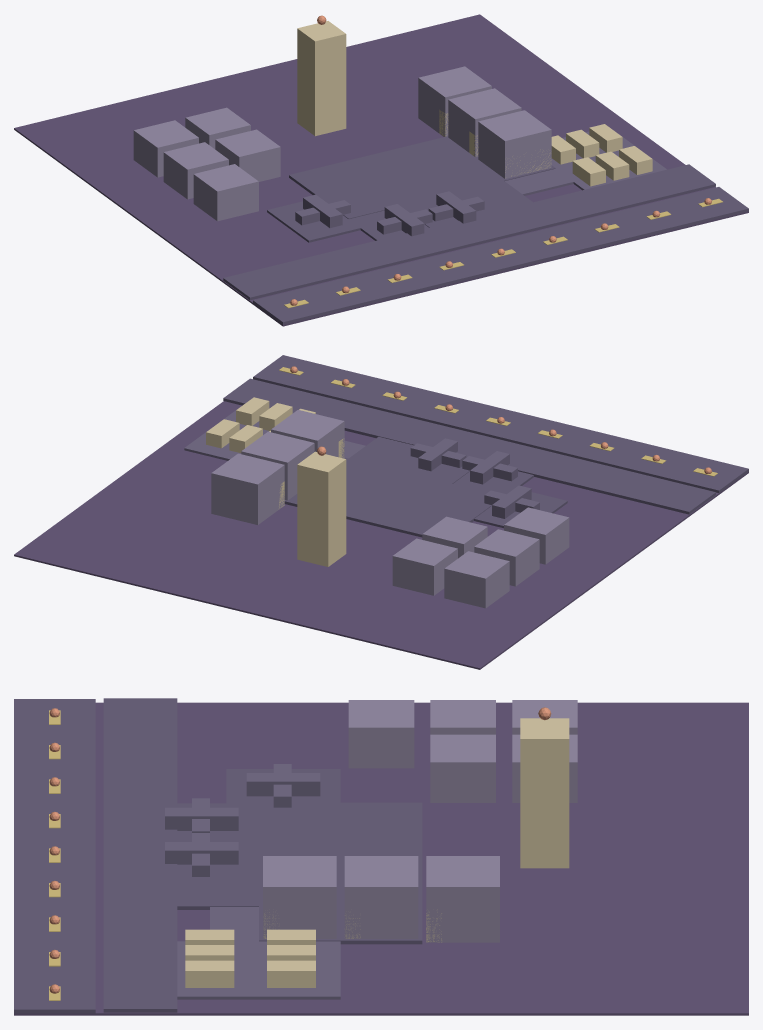
The model's file is stage_20.glb.
3 renders of one model, top to bottom at view 1: azimuth 30°, elevation 25°; view 2: azimuth 150°, elevation 25°; view 3: azimuth 270°, elevation 25°, orthographic. The views are drawn at different scales.
Parts seen in each view (by area): view 1: geometry_0; view 2: geometry_0; view 3: geometry_0.
Boxes of the visible parts, left/top/right/bottom form: geometry_0: left=14, top=14, right=748, bottom=326; geometry_0: left=14, top=355, right=748, bottom=669; geometry_0: left=14, top=698, right=748, bottom=1015.
Size of the model in its own units: 9 by 2.06 by 9.
